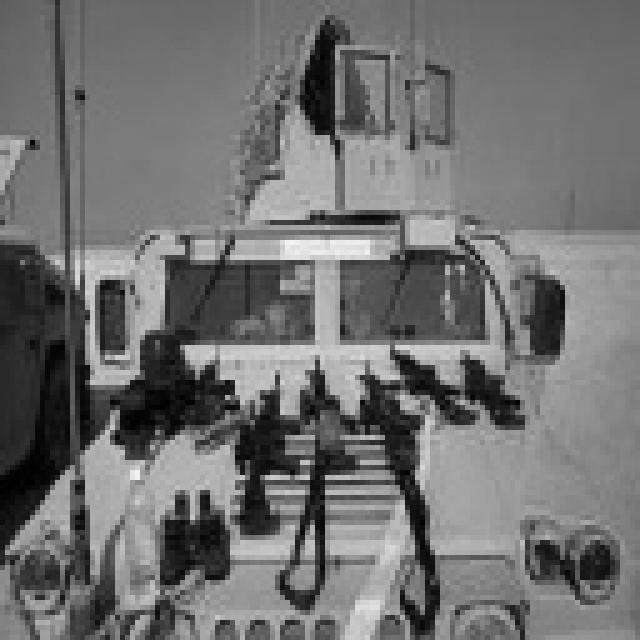Rifle: (334, 315, 465, 637), (276, 320, 370, 618), (202, 336, 296, 558), (425, 306, 553, 456), (373, 302, 488, 466)
